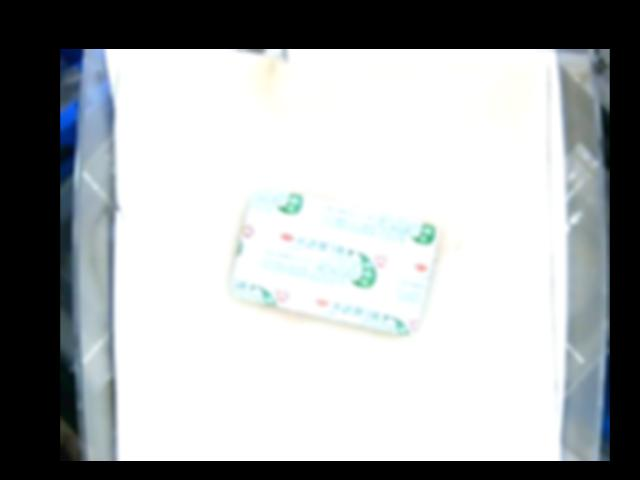Medicine: (230, 186, 437, 337)
